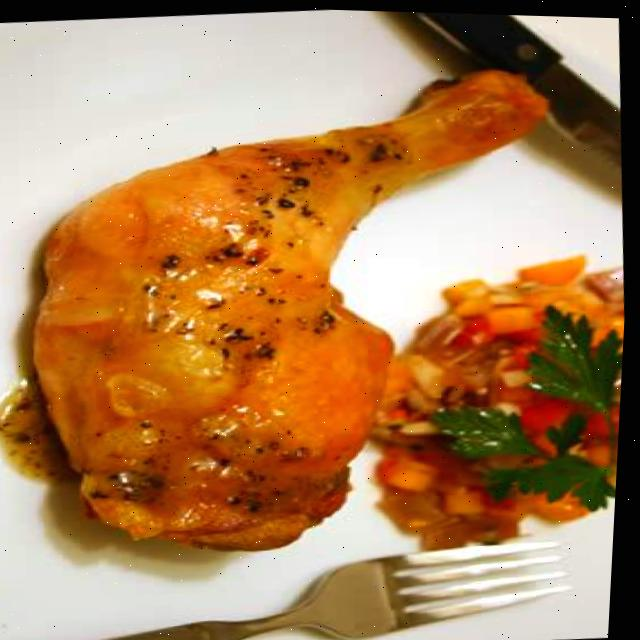鸡肉料理 含炸鸡: (0, 34, 613, 579)
